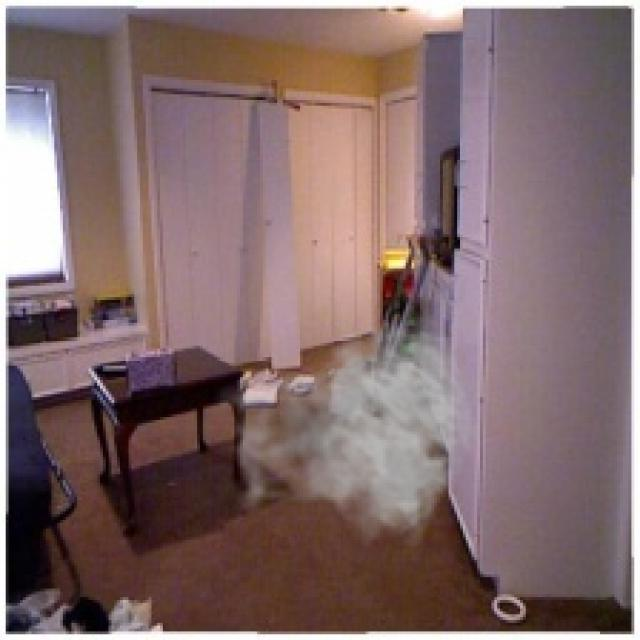Smoke: (215, 312, 480, 554)
